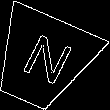N_SW: (11, 29, 73, 92)
